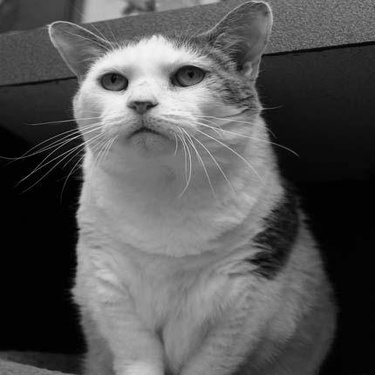cat: (46, 1, 340, 373)
